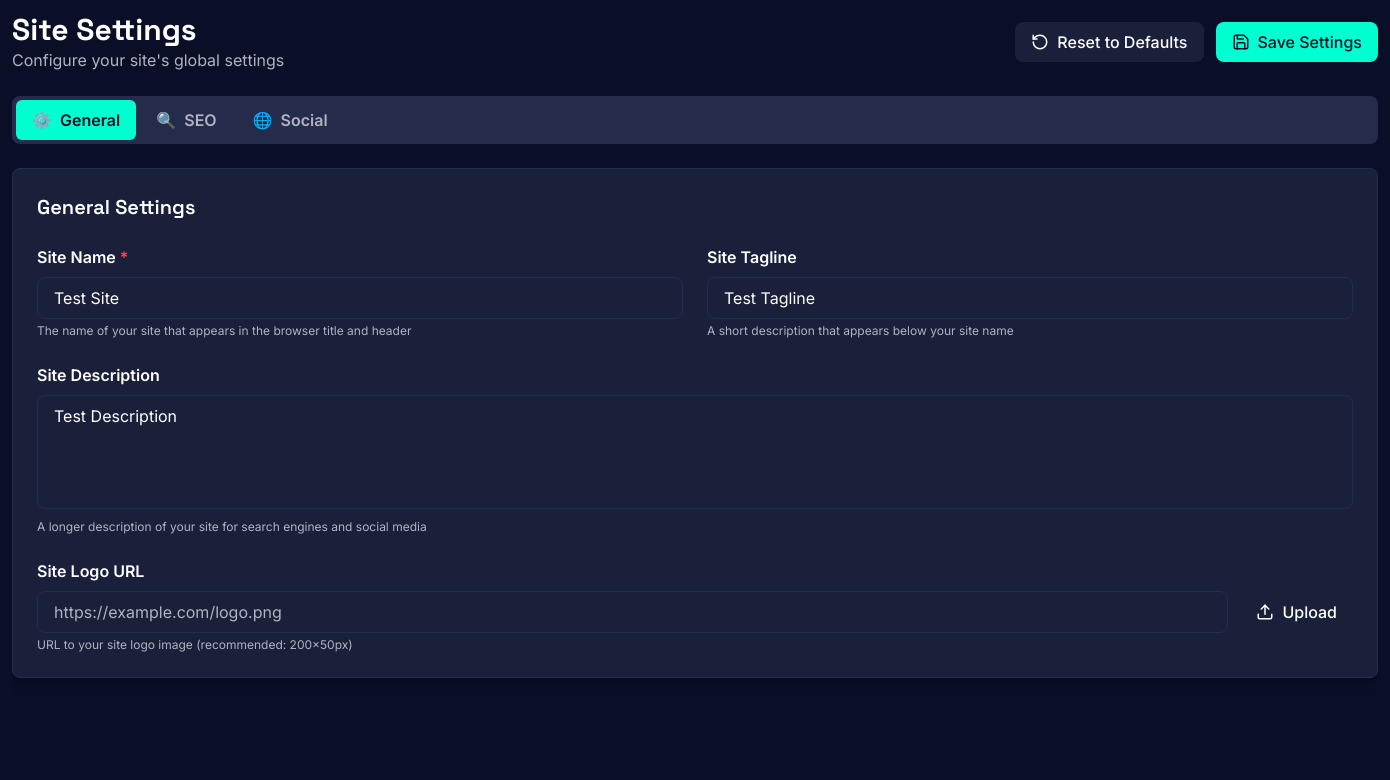
it: SettingsForm › should switch between tabs
// Switch to SEO tab
Click the button "🔍 SEO" at x=186, y=120, box [140, 100, 233, 140]
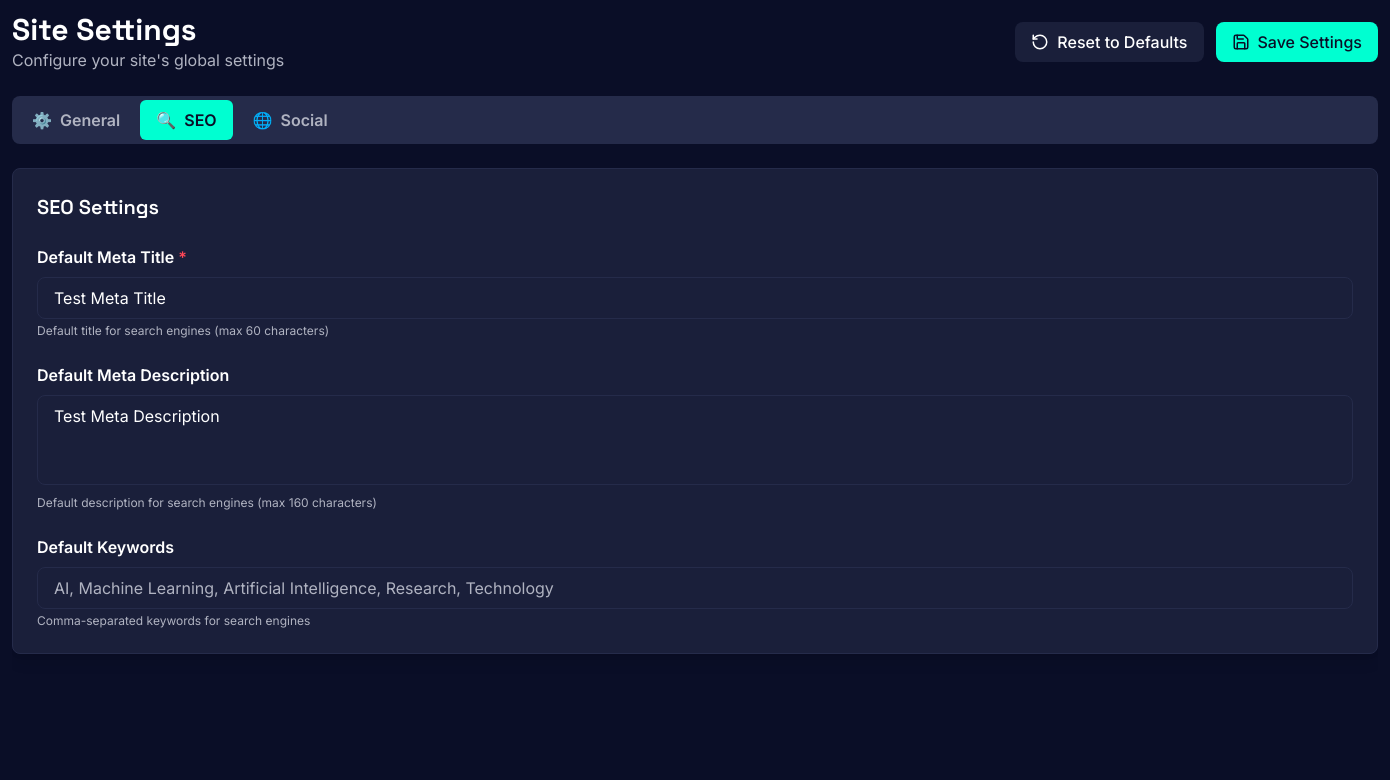
Expected: the field showing "Test Meta Title" is shown, [37, 277, 1353, 319]
Expected: the text box showing "Test Meta Description" is shown, [37, 395, 1353, 485]
// Switch to Social tab
Click the button "🌐 Social" at x=290, y=120, box [237, 100, 344, 140]
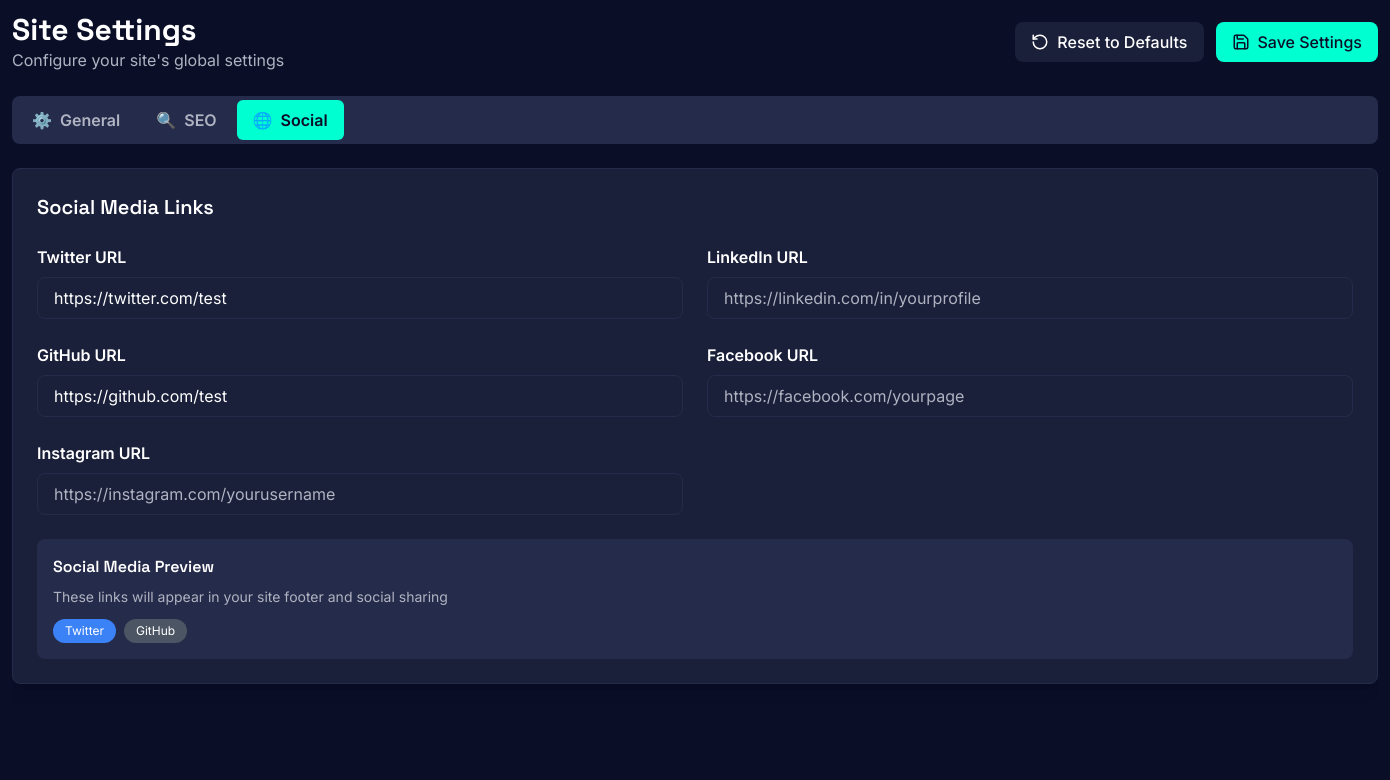
Expected: the field showing "https://twitter.com/test" below "Twitter URL" is shown, [37, 277, 683, 319]
Expected: the field showing "https://github.com/test" below "GitHub URL" is shown, [37, 375, 683, 417]
